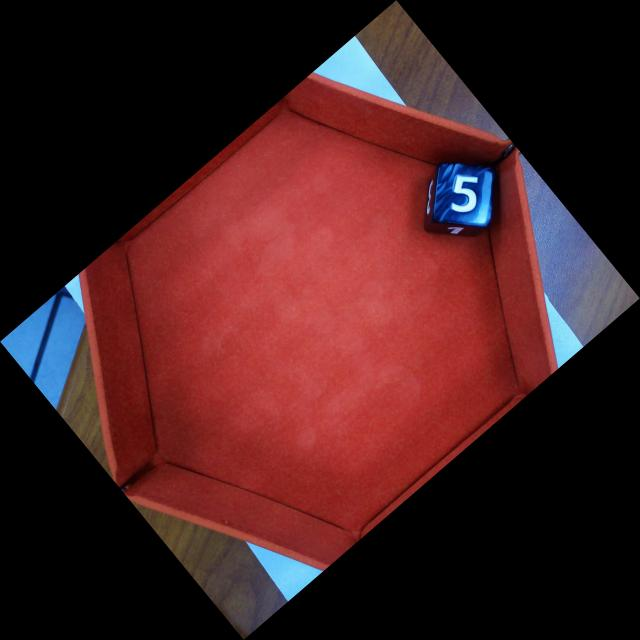dice: (434, 163, 493, 226)
